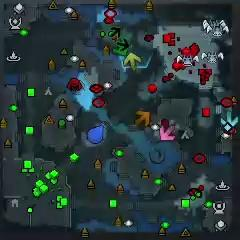p1: (88, 125, 105, 146)
x1: (158, 126, 175, 142)
x2: (124, 52, 142, 71)
x3: (221, 112, 238, 130)
x4: (111, 39, 129, 57)
x4Clone: (116, 38, 131, 52), (109, 26, 121, 38)
x5: (135, 110, 151, 127)
